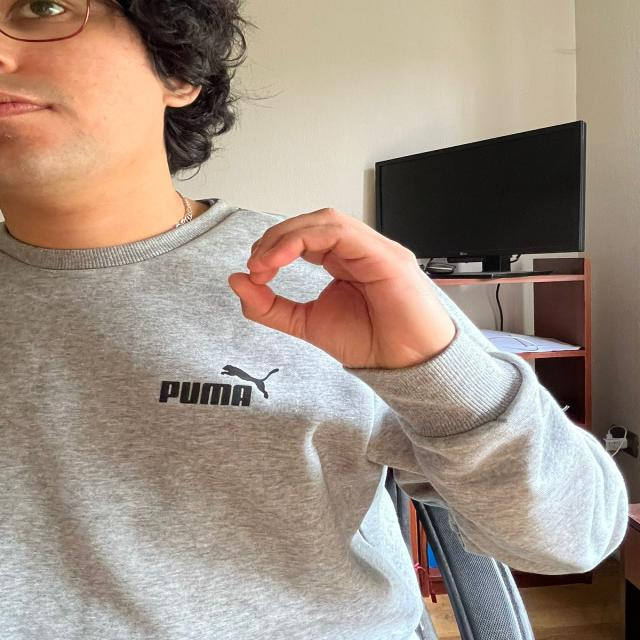O: (228, 202, 460, 376)
